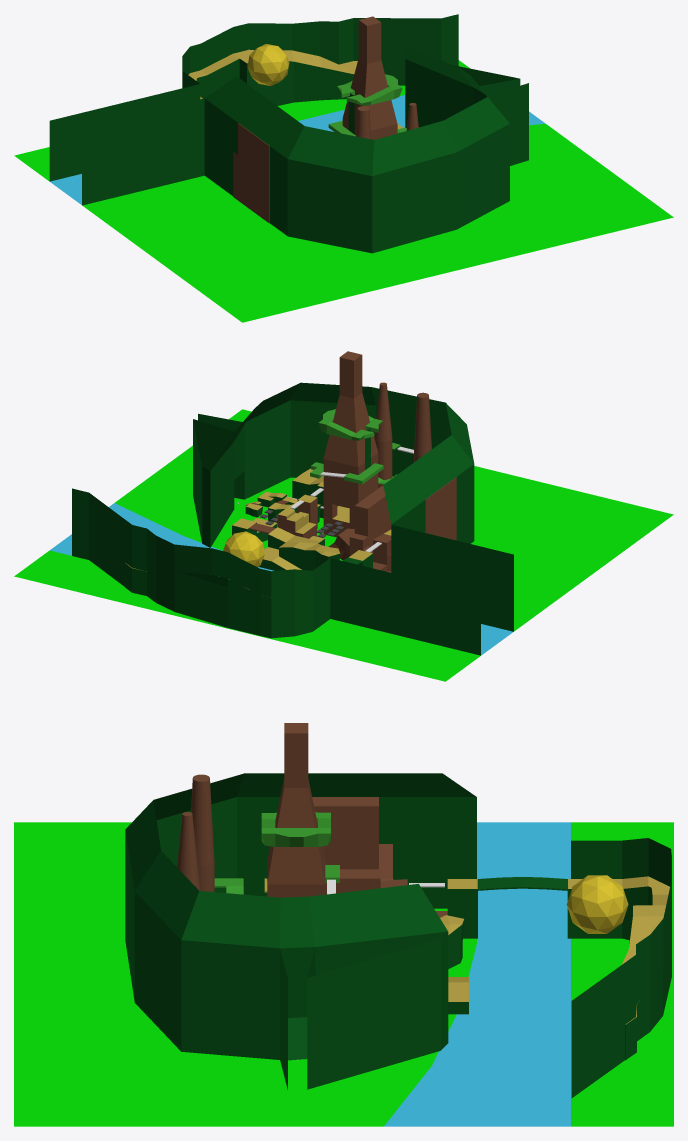
Rendered from woodsLatest.glb.
The picture shows the model from 3 angles, top to bottom: view 1: azimuth 30°, elevation 25°; view 2: azimuth 150°, elevation 25°; view 3: azimuth 270°, elevation 25°; orthographic projection. The views are drawn at different scales.
Visible parts, largest first — view 1: Plane-col.002, Plane-col, Cube.030-col.002, Cube.030-col.001, Cube.011-col, Cube.009-col, Plane-col.003, Plane-col.001, Icosphere-col, Cube.047-col; view 2: Plane-col.002, Plane-col, Cube.030-col.002, Plane-col.003, Cube.030-col.001, Cube.011-col, Cube.009-col, Cube.022-col, Plane-col.001, Cylinder.001-col, Cylinder-col, Icosphere-col (+5 smaller); view 3: Plane-col.002, Plane-col, Plane-col.001, Plane-col.003, Cube.030-col.002, Cube.011-col, Cube.030-col.001, Cube.009-col, Icosphere-col, Cylinder-col, Cube.047-col, Cube.022-col (+3 smaller).
Part boxes in pixels (box(x1,y1,x2,y2)): Plane-col.002: box(82, 44, 528, 253); Plane-col: box(82, 124, 673, 322); Cube.030-col.002: box(49, 14, 458, 181); Cube.030-col.001: box(182, 50, 357, 105); Cube.011-col: box(342, 16, 397, 139); Cube.009-col: box(233, 123, 269, 223); Plane-col.003: box(14, 60, 469, 181); Plane-col.001: box(50, 95, 545, 204); Icosphere-col: box(247, 44, 289, 85); Cube.047-col: box(337, 74, 402, 105); Plane-col.002: box(193, 382, 513, 631); Plane-col: box(115, 409, 673, 631); Cube.030-col.002: box(72, 488, 480, 655); Plane-col.003: box(14, 550, 480, 681); Cube.030-col.001: box(124, 563, 324, 638); Cube.011-col: box(323, 351, 378, 509); Cube.009-col: box(349, 477, 456, 571); Cube.022-col: box(259, 527, 340, 570); Plane-col.001: box(50, 503, 513, 655); Cylinder.001-col: box(374, 382, 392, 487); Cylinder-col: box(414, 392, 431, 462); Icosphere-col: box(223, 531, 264, 567); Plane-col.002: box(125, 773, 476, 1089); Plane-col: box(14, 822, 476, 1126); Plane-col.001: box(384, 822, 570, 1126); Plane-col.003: box(571, 822, 673, 1126); Cube.030-col.002: box(571, 838, 671, 1097); Cube.011-col: box(267, 723, 325, 897); Cube.030-col.001: box(567, 876, 671, 1060); Cube.009-col: box(312, 797, 393, 894); Icosphere-col: box(566, 875, 628, 933); Cylinder-col: box(191, 774, 214, 891); Cube.047-col: box(261, 812, 330, 846); Cube.022-col: box(440, 915, 468, 1014).
Bounding box in the file's own units: 883 × 343 × 809.
